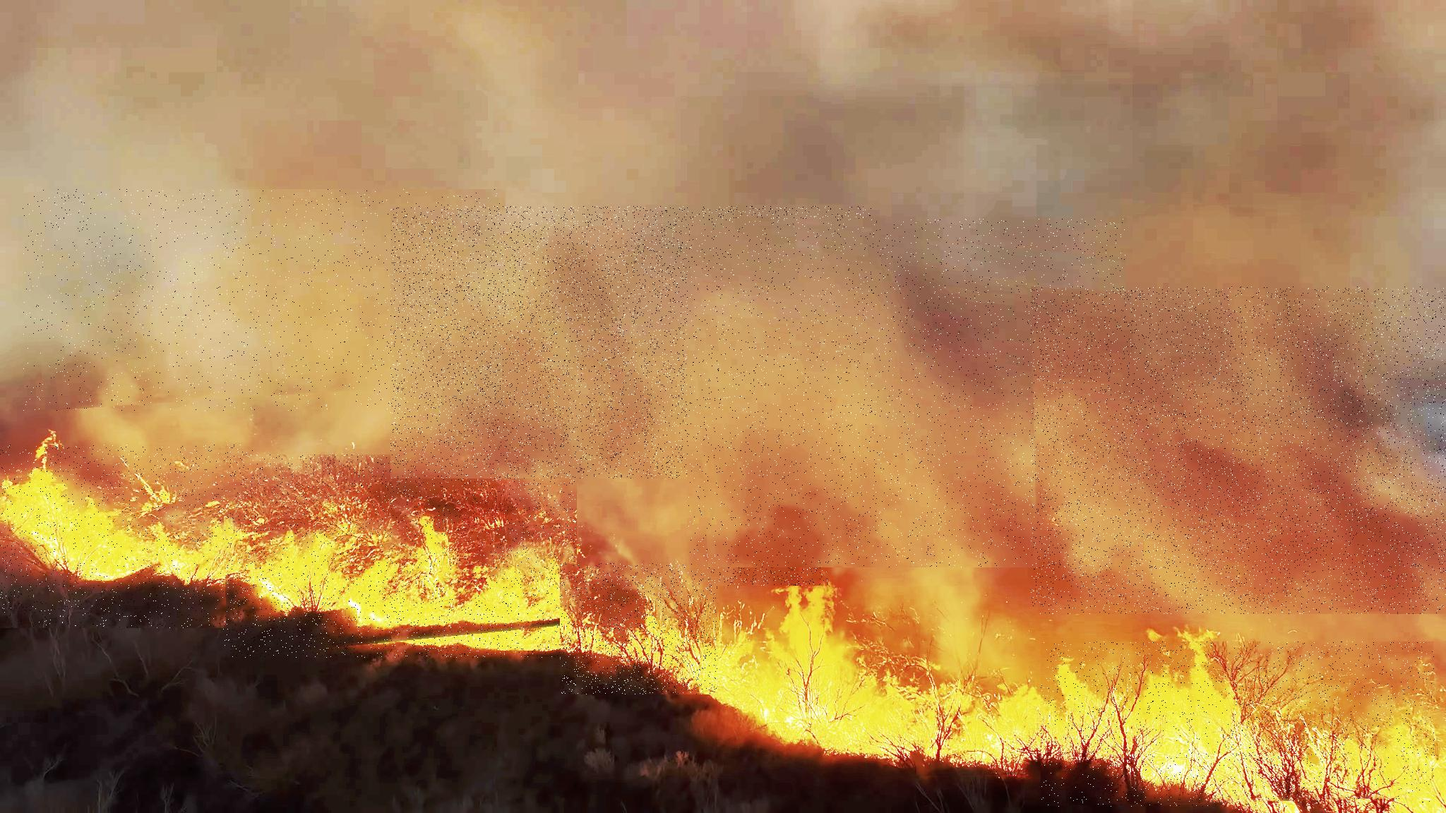fire: (222, 454, 577, 658), (1041, 642, 1435, 807), (717, 586, 1053, 779), (0, 445, 253, 628), (560, 563, 828, 694)
smoke: (688, 219, 1125, 567), (1031, 287, 1446, 614), (390, 206, 872, 479), (23, 189, 505, 411)
